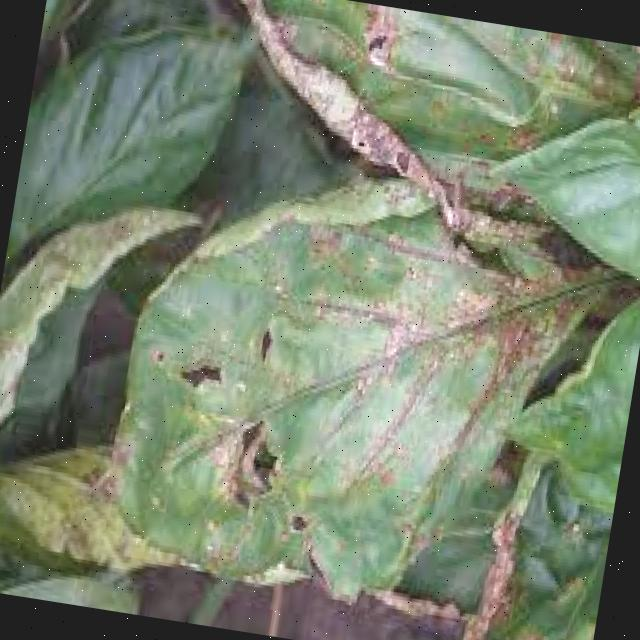leaf spot: (71, 138, 620, 639)
